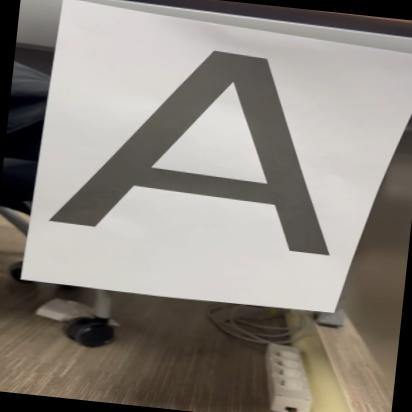seat: (52, 28, 353, 258)
